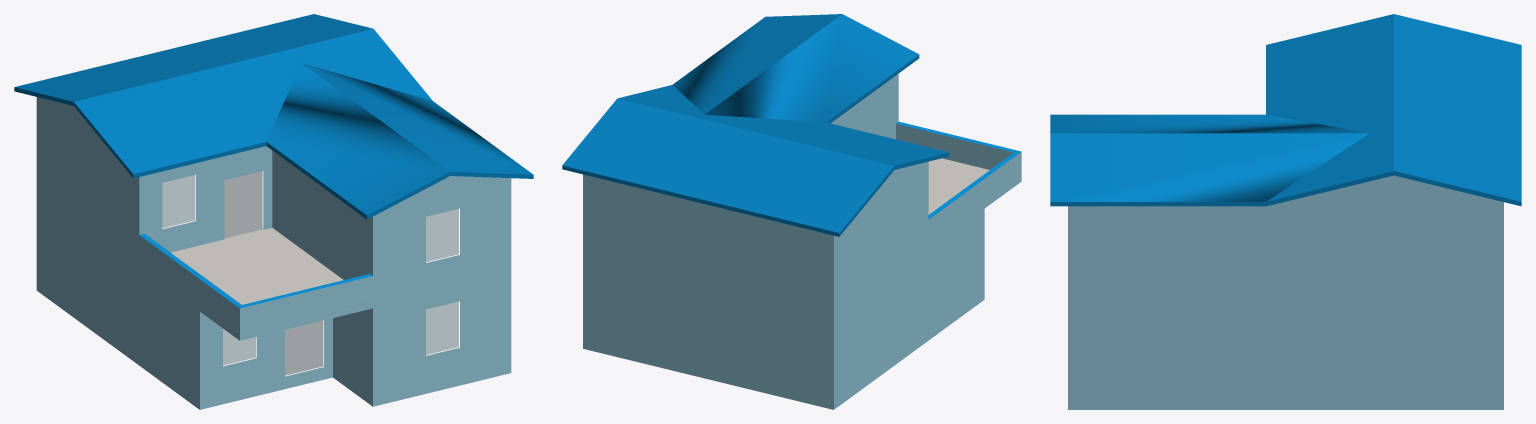
Rendered from house_type_c.glb.
3 renders of one model, left to right at view 1: azimuth 30°, elevation 25°; view 2: azimuth 150°, elevation 25°; view 3: azimuth 270°, elevation 25°, orthographic. The views are drawn at different scales.
Parts seen in each view (by area): view 1: roof0; view 2: roof0; view 3: roof0.
Part boxes in pixels (box(x1,y1,x2,y2)): roof0: box(14, 14, 533, 409); roof0: box(562, 14, 1021, 409); roof0: box(1050, 14, 1521, 409).
Size of the model in its own units: 112 by 81.67 by 142.
